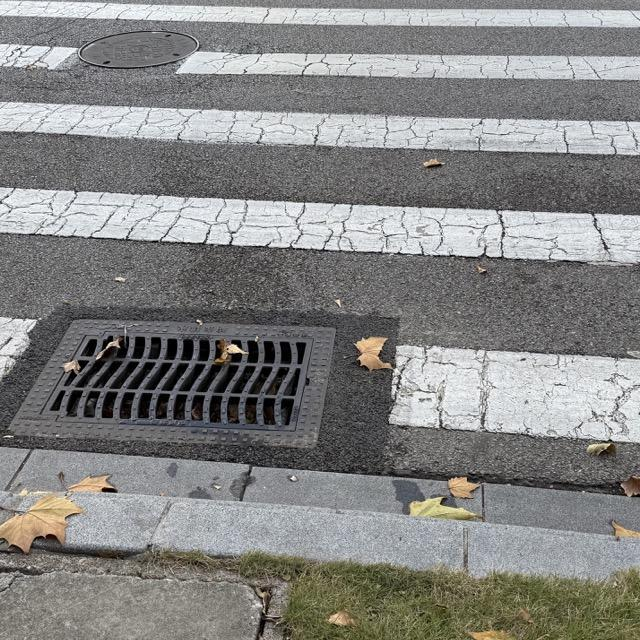curb: (61, 493, 639, 578)
